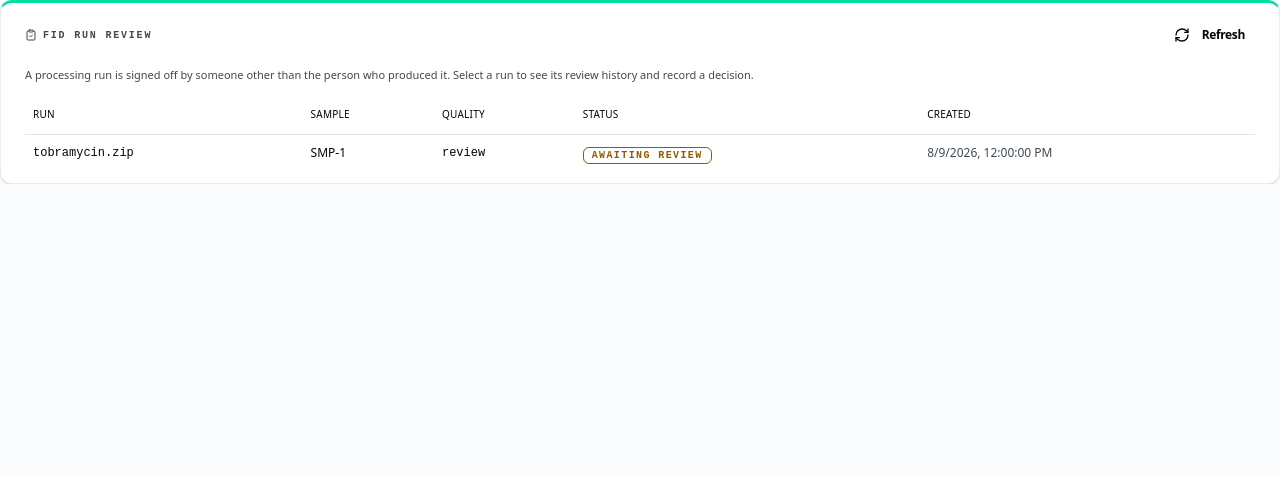
FID run review › explains a self-review refusal instead of showing a generic failure
Click the row with test id "fid-run-row-7" at (640, 152), box [25, 134, 1255, 171]
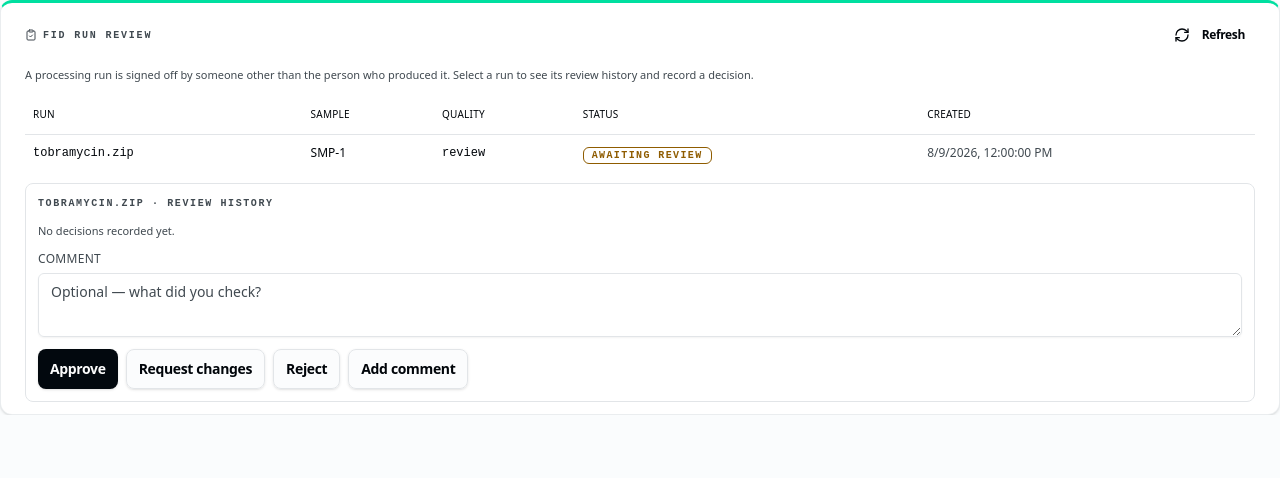
Now the text "No decisions recorded yet." is shown, box [38, 223, 175, 238]
Click the button with test id "fid-review-action-approve" at (78, 369), box [38, 349, 118, 389]
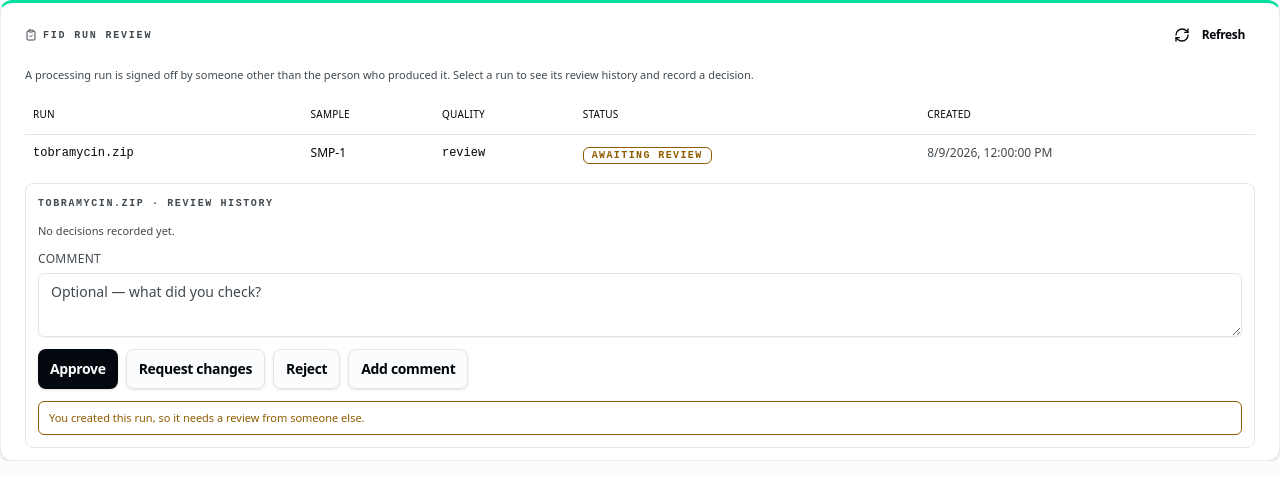
Now the text with test id "fid-review-self-review" reads "You created this run, so it needs a review from someone else.", box [49, 410, 365, 425]
